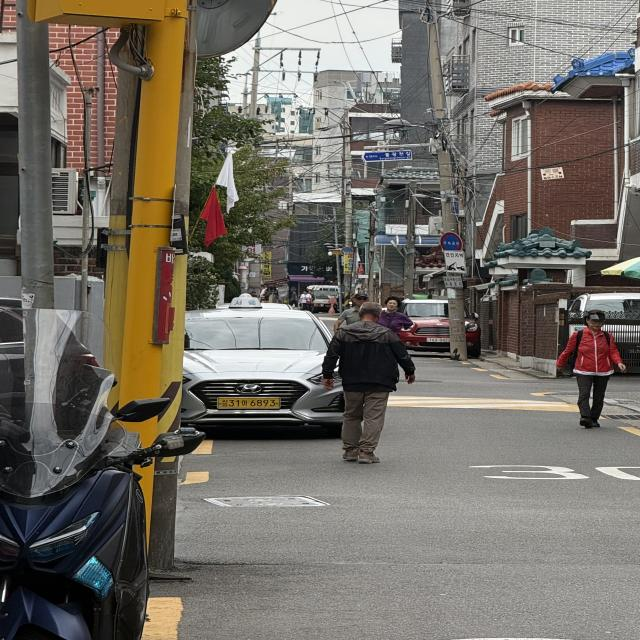car: (160, 276, 370, 442), (362, 282, 515, 365)
motorcycle: (1, 297, 218, 640)
